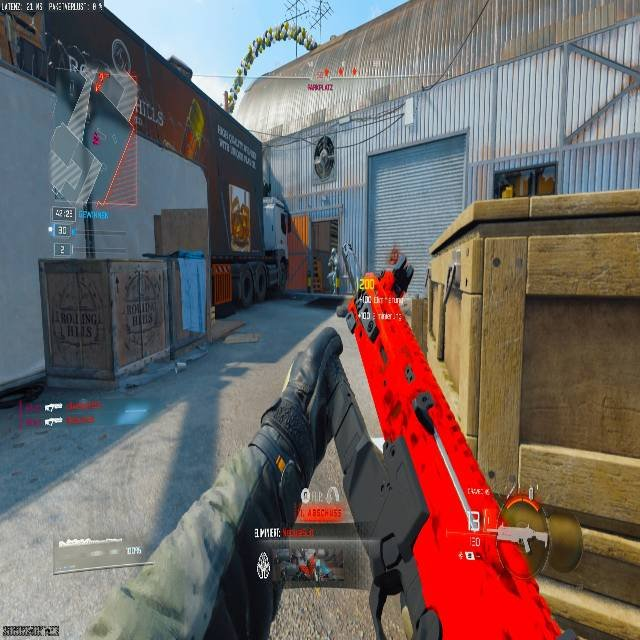player: (312, 134, 335, 180)
